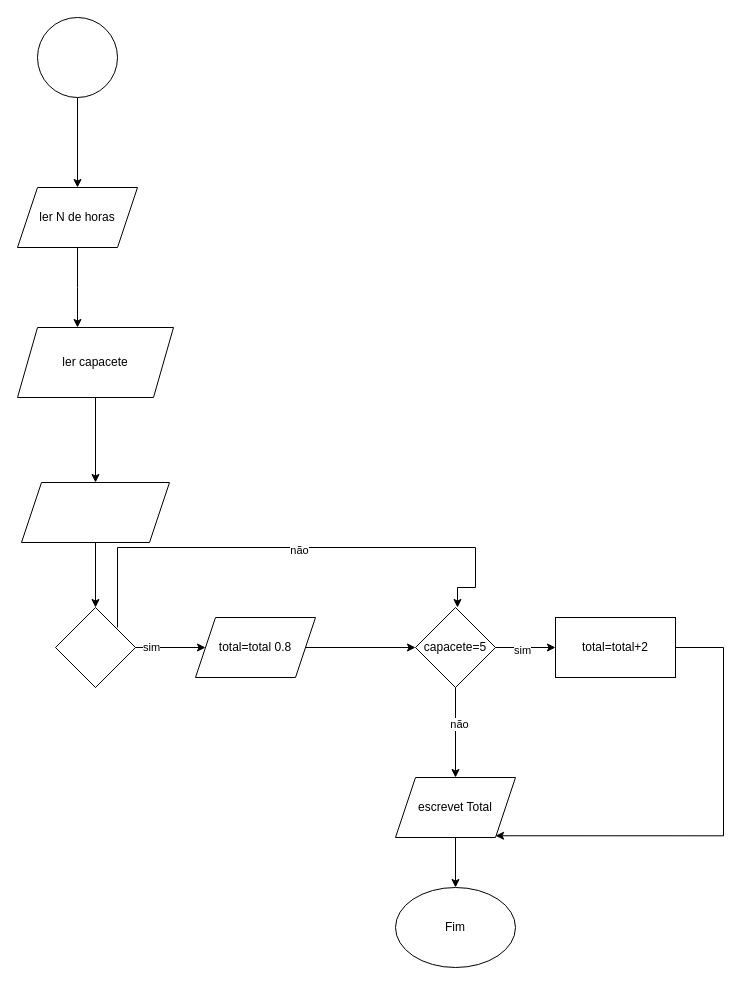
Some shapes in this 749 by 985 pixel diagram are drawn without their labels. Here are the shapes that lost their labels. From the top down, the box of each, then its label:
(36, 16, 118, 98): Início
(20, 482, 170, 542): total= N de horas 3
(54, 606, 136, 688): N de horas>=4
